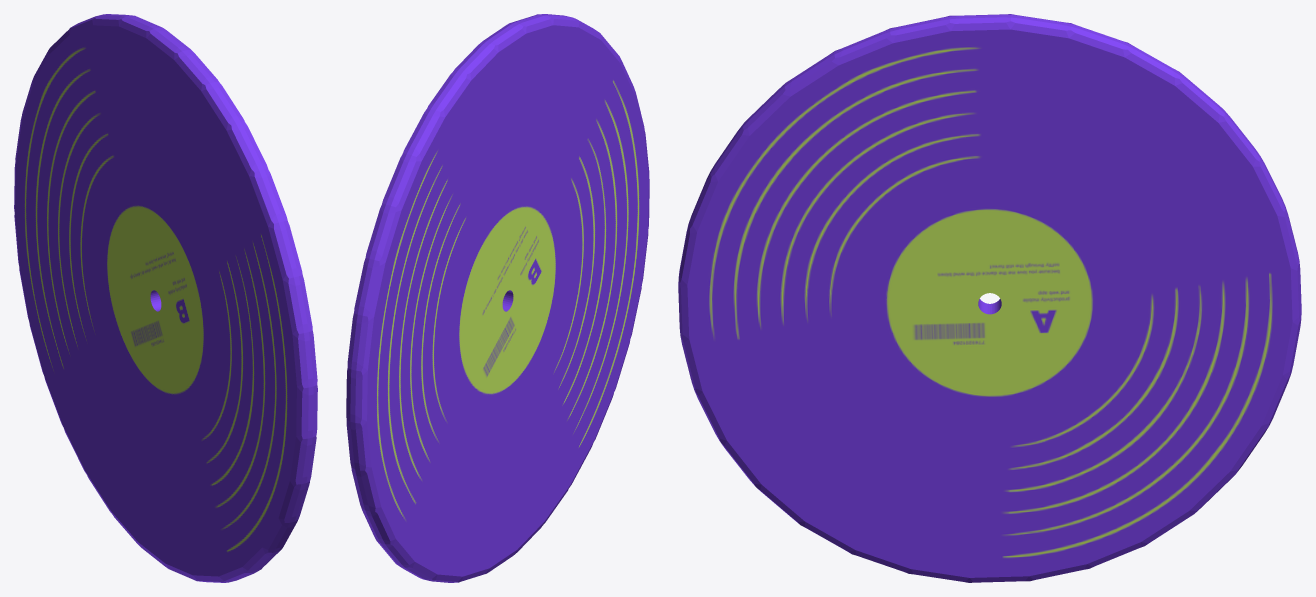
File: DoingDoneVinyl.glb
3 views of the same model, side by side, from view 1: azimuth 30°, elevation 25°; view 2: azimuth 150°, elevation 25°; view 3: azimuth 270°, elevation 25° (orthographic). The views are drawn at different scales.
Parts seen in each view (by area): view 1: Cylinder.001; view 2: Cylinder.001; view 3: Cylinder.001.
Part boxes in pixels (x1=…): Cylinder.001: x1=14, y1=14, x2=317, y2=582; Cylinder.001: x1=346, y1=14, x2=649, y2=582; Cylinder.001: x1=678, y1=14, x2=1301, y2=582.
Size of the model in its own units: 0.0503 by 1.27 by 1.27.
1 material, 1 textured.
